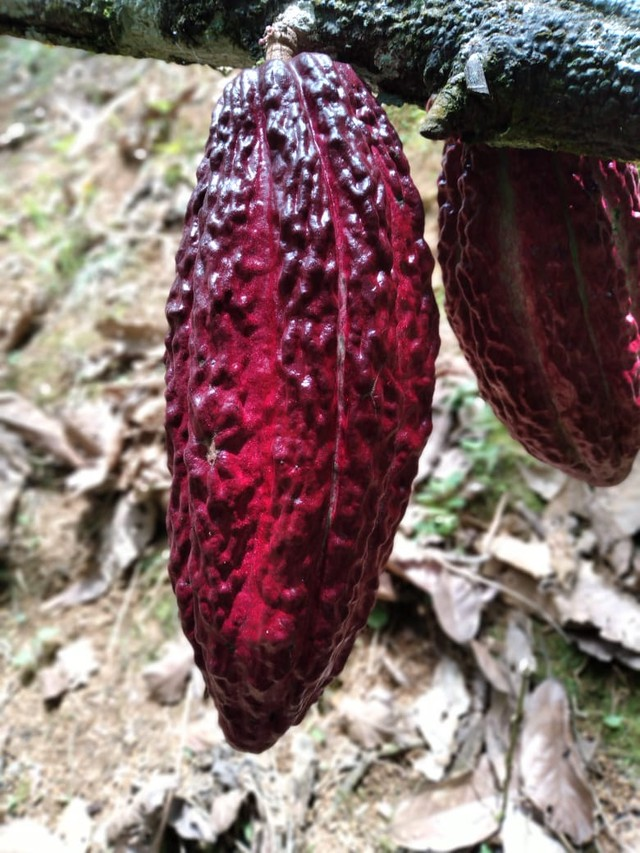Health: (157, 43, 446, 755)
